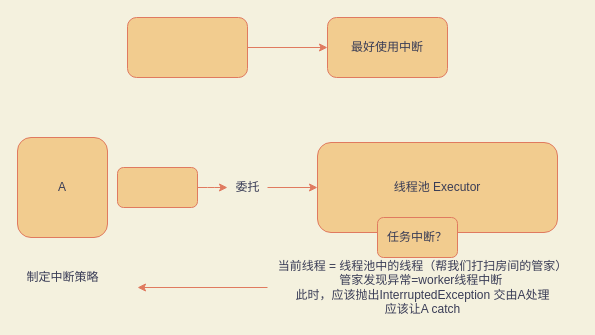
The diagram is 595 pixels wide and 335 high, and some of its shapes have lost their labels. The shapes that lost their labels are listed below. From the top down, each one's box as (x1, y1, x2, y2) in pixels, then its label:
(126, 16, 248, 78): 取消任务
(116, 166, 198, 208): 任务
